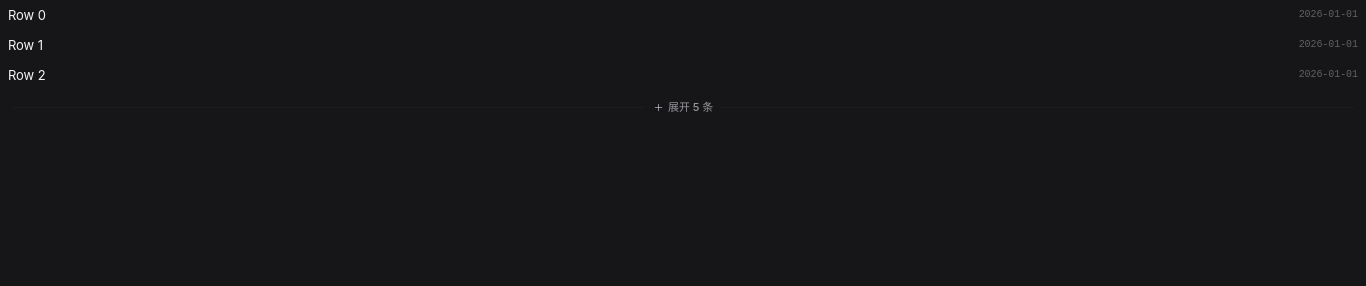
Test: SessionList default pagination (universal groups / time buckets) › expand reveals more rows and then offers collapse
Click the button "展开 5 条": point(683, 108) [645, 96, 721, 119]
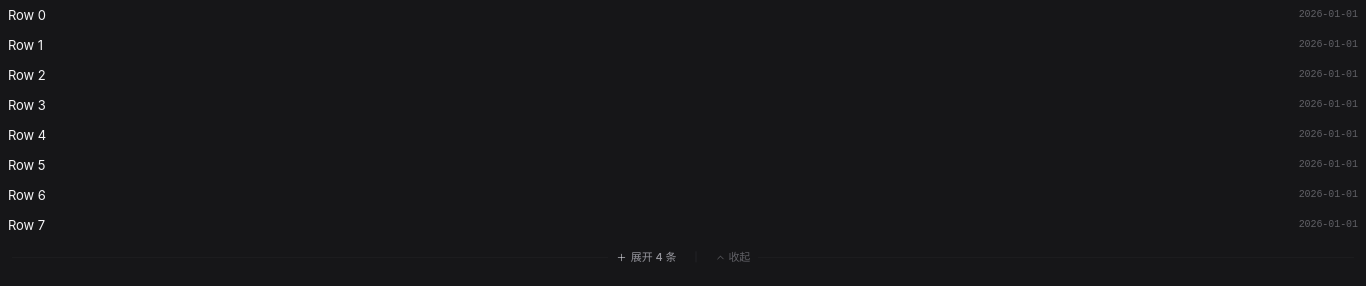
expect the text "Row 7" is shown: met, box [8, 215, 45, 235]
expect the button "收起" is shown: met
Click the button "收起": point(733, 258) [707, 246, 758, 269]
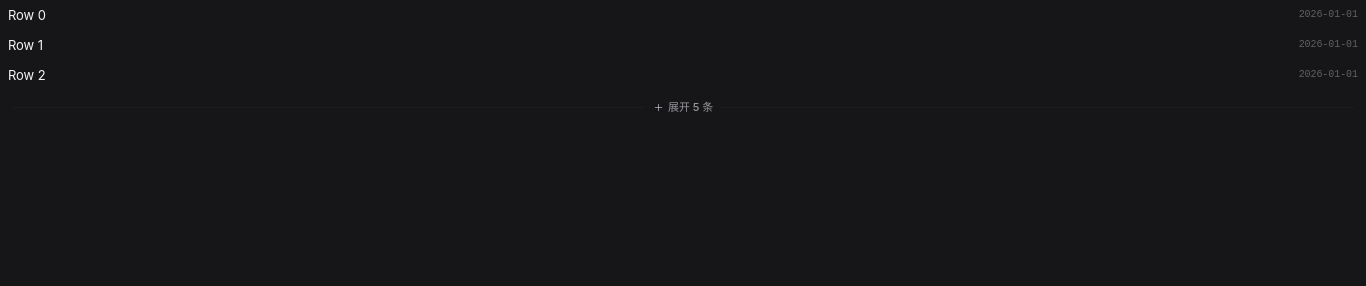
expect the option "Row 3" is gone: met
